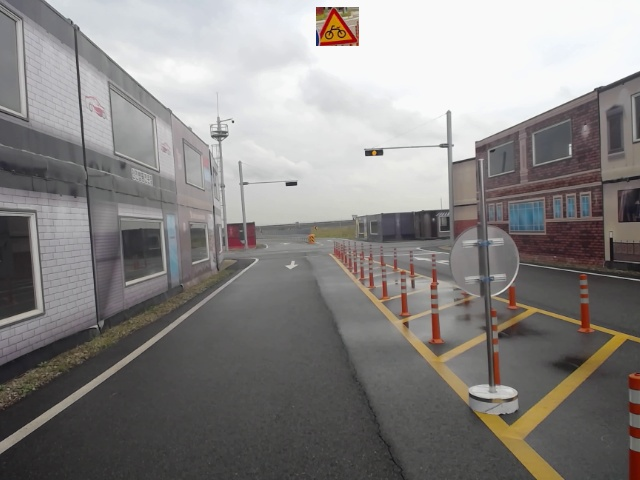orange_3: (363, 148, 384, 157)
